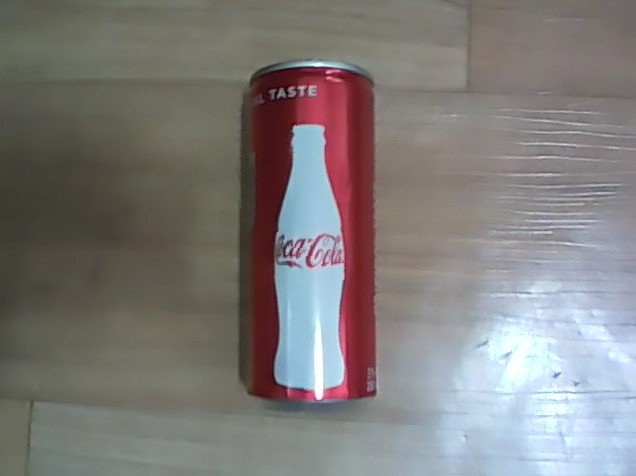Can: (238, 51, 383, 414)
